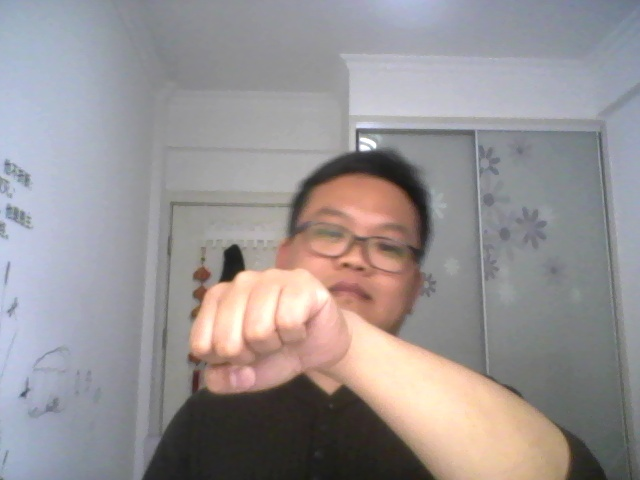Yes: (175, 262, 371, 396)
